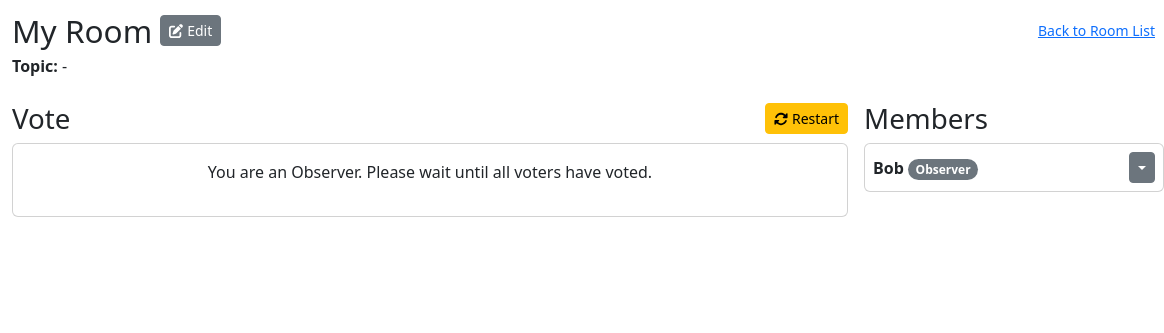
Test case: RoomView › handles member actions
Click the button named "Edit Member": (1142, 168) [1129,152,1155,183]
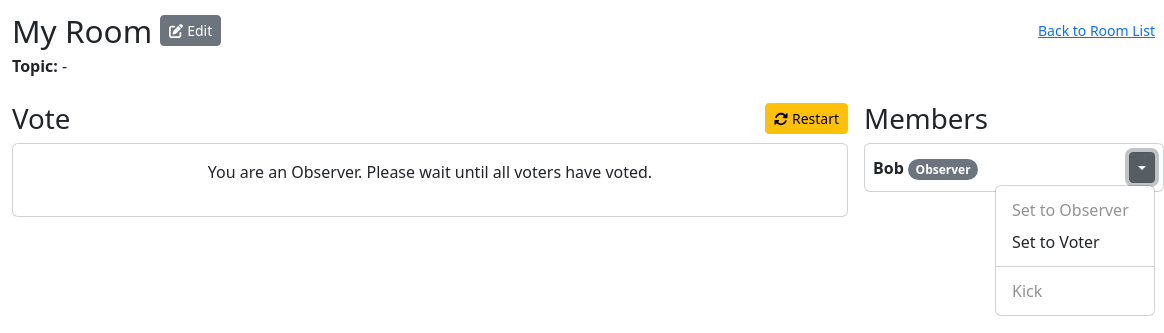
Click the menu item "Set to Voter": (1075, 242) [996,226,1154,258]
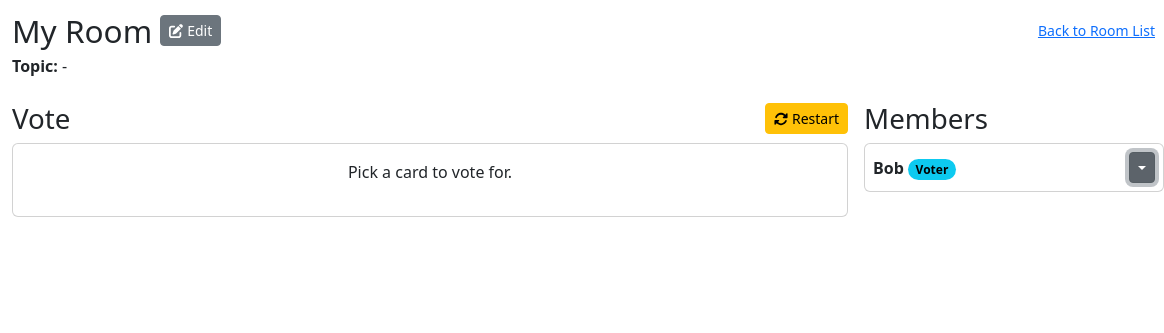
Expected: the text "Voter" is shown, [908,159,956,180]
